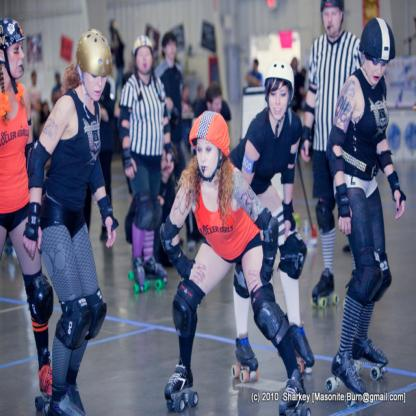Helmet: (69, 28, 108, 101), (261, 56, 297, 124), (0, 17, 27, 98), (361, 15, 399, 57), (134, 31, 158, 84)
